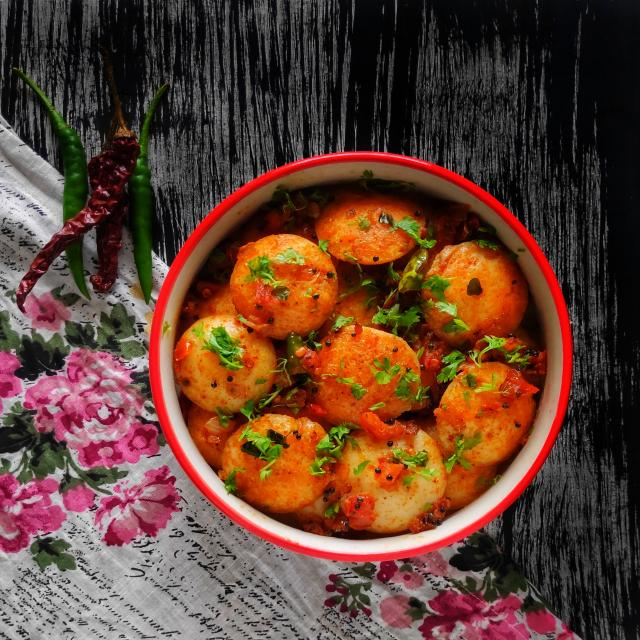idli: (320, 419, 449, 540), (302, 328, 426, 432), (230, 229, 342, 336), (419, 225, 523, 338), (437, 358, 537, 465), (224, 414, 330, 505), (178, 313, 270, 407), (321, 189, 424, 258)
